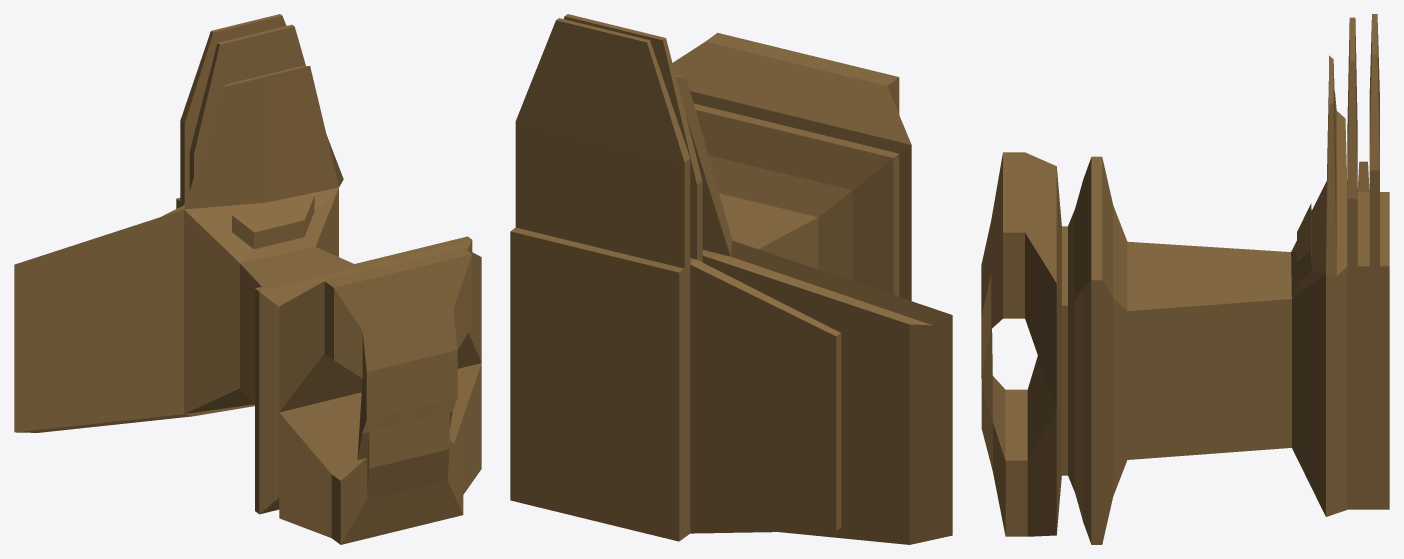
Rendered from TowerKey.fbx.
3 renders of one model, left to right at view 1: azimuth 30°, elevation 25°; view 2: azimuth 150°, elevation 25°; view 3: azimuth 270°, elevation 25°, orthographic. The views are drawn at different scales.
Parts seen in each view (by area): view 1: TowerKey; view 2: TowerKey; view 3: TowerKey.
Boxes of the visible parts, box(x1,y1,x2,y2) form: TowerKey: box(14, 14, 481, 544); TowerKey: box(510, 14, 952, 544); TowerKey: box(981, 14, 1389, 544).
Size of the model in its own units: 594 by 628 by 497.
